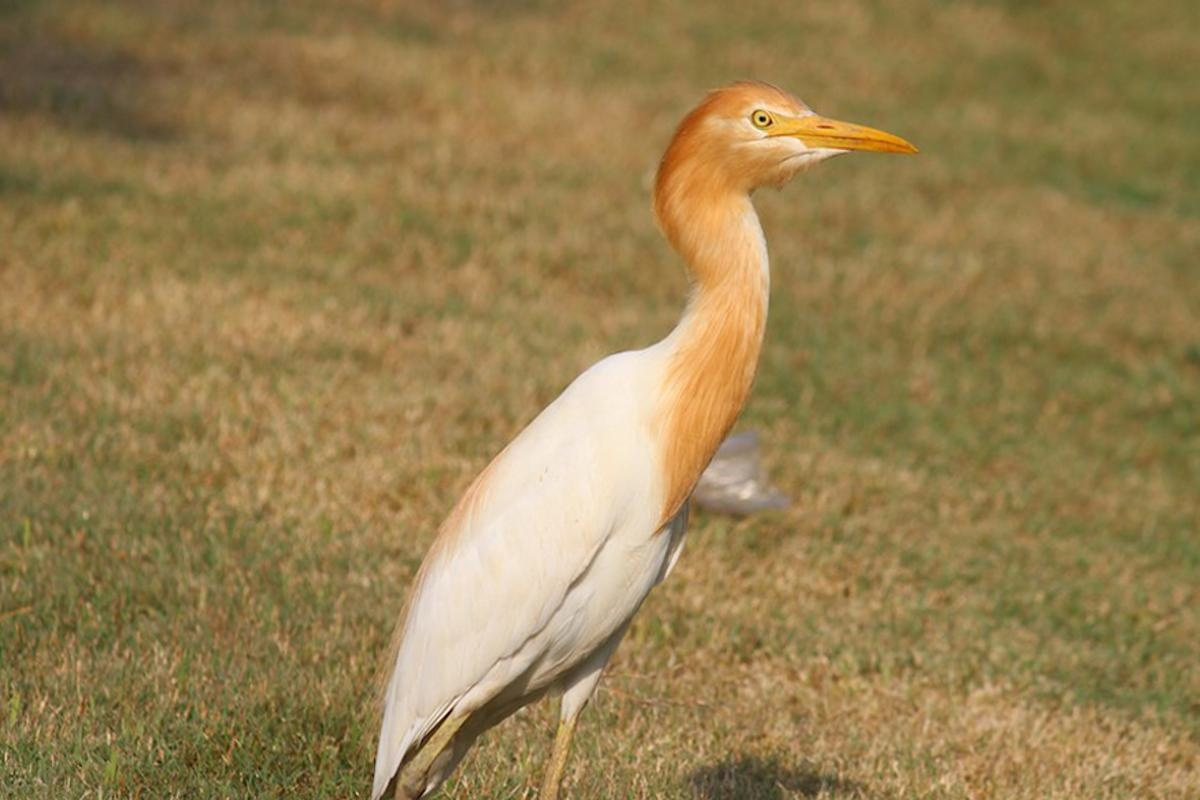egret: (323, 76, 923, 800)
